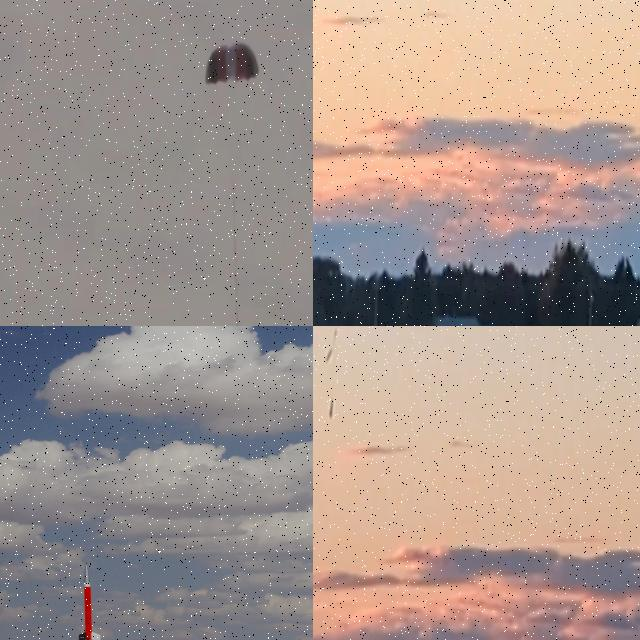Rocket: (78, 562, 101, 640), (329, 399, 333, 418)
